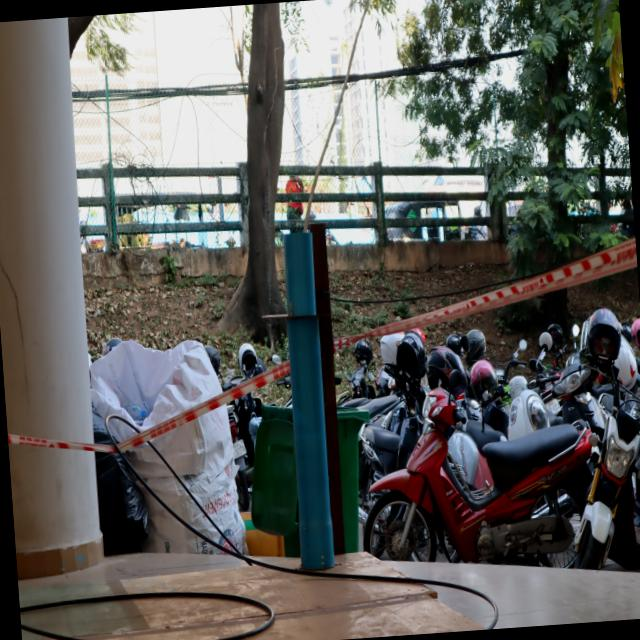pole: (255, 222, 348, 404)
